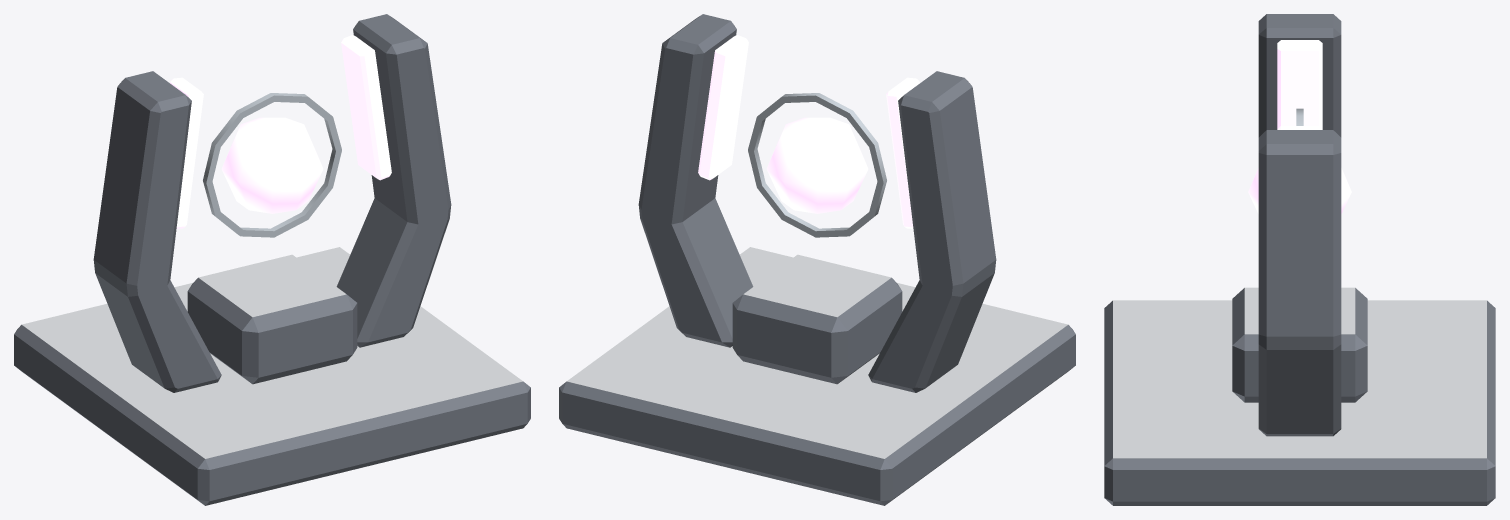
The model's file is R4X_Blink_LOD1.fbx.
3 views of the same model, side by side, from view 1: azimuth 30°, elevation 25°; view 2: azimuth 150°, elevation 25°; view 3: azimuth 270°, elevation 25° (orthographic).
Parts seen in each view (by area): view 1: R4X_Blink_LOD1; view 2: R4X_Blink_LOD1; view 3: R4X_Blink_LOD1.
Boxes of the visible parts, x1,y1,x2,y2 form: R4X_Blink_LOD1: (14, 14, 530, 505); R4X_Blink_LOD1: (559, 14, 1075, 505); R4X_Blink_LOD1: (1104, 14, 1495, 505).
Bounding box in the file's own units: 0.52 × 0.51 × 0.52.
